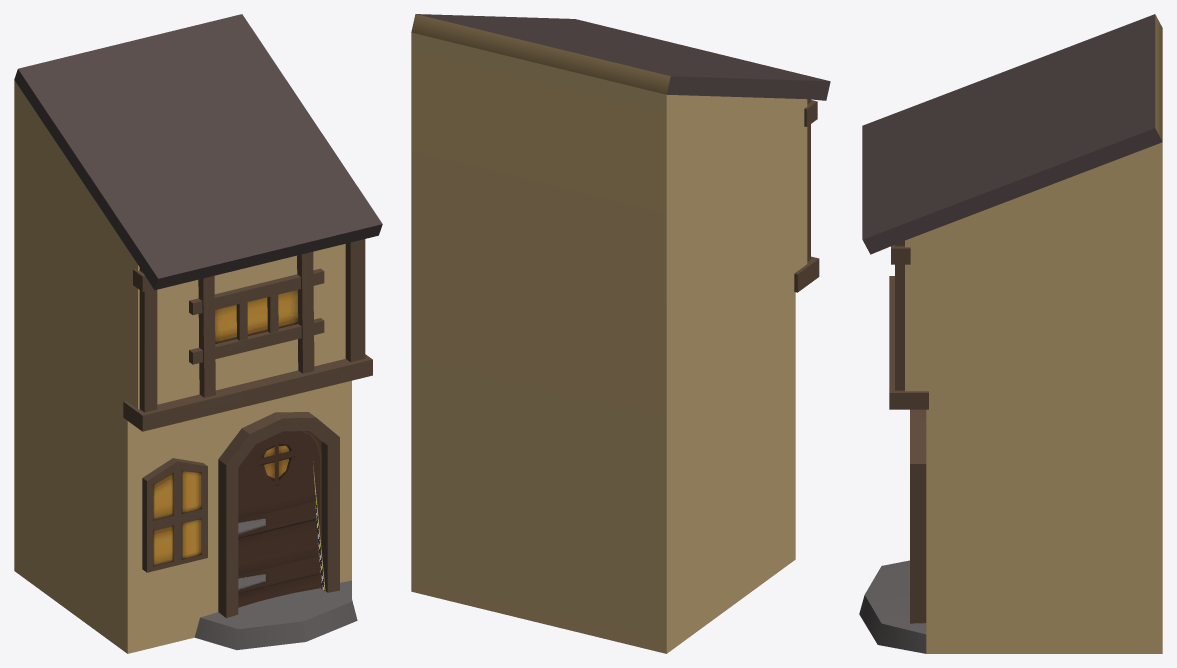
Rendered from castle_town_house05.glb.
The picture shows the model from 3 angles, left to right: view 1: azimuth 30°, elevation 25°; view 2: azimuth 150°, elevation 25°; view 3: azimuth 270°, elevation 25°; orthographic projection. The views are drawn at different scales.
Visible parts, largest first — view 1: house05; view 2: house05; view 3: house05.
Part boxes in pixels (bbox=[...]): house05: bbox=[14, 14, 382, 653]; house05: bbox=[411, 14, 830, 653]; house05: bbox=[859, 14, 1162, 653].
Size of the model in its own units: 3.5 by 7.33 by 3.83.
1 material, 1 textured.
